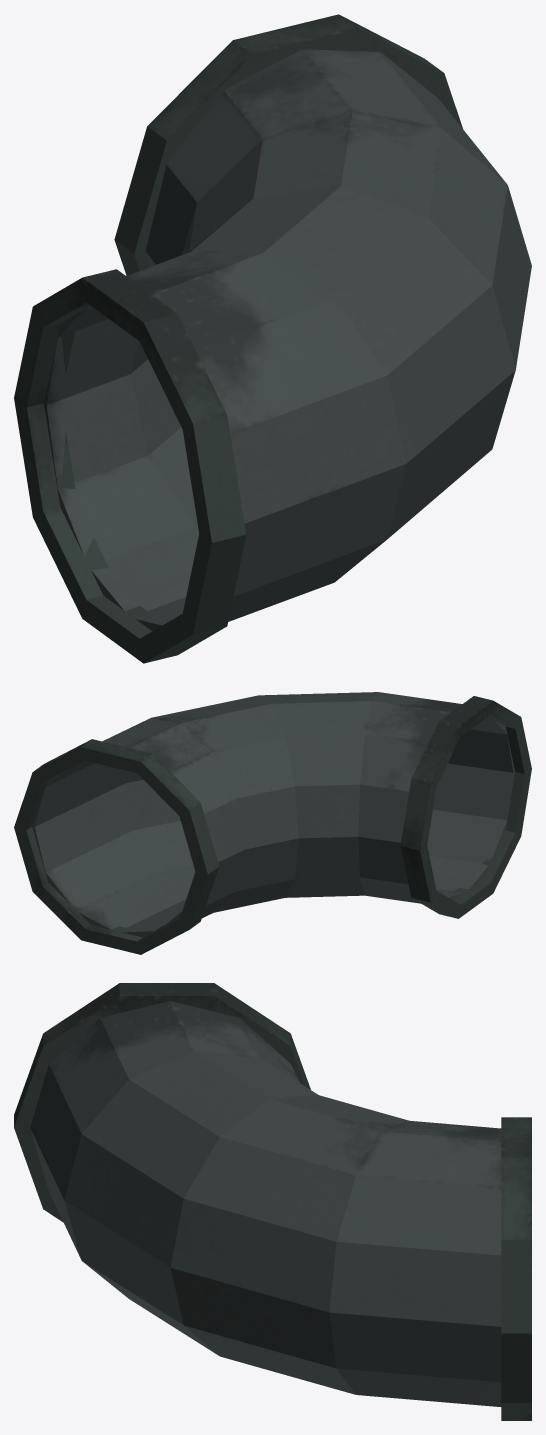
The model's file is duct_elbow_90.glb.
The picture shows the model from 3 angles, top to bottom: view 1: azimuth 30°, elevation 25°; view 2: azimuth 150°, elevation 25°; view 3: azimuth 270°, elevation 25°; orthographic projection. The views are drawn at different scales.
Parts seen in each view (by area): view 1: duct_elbow_90; view 2: duct_elbow_90; view 3: duct_elbow_90.
Boxes of the visible parts, bbox=[...] form: duct_elbow_90: bbox=[14, 14, 531, 663]; duct_elbow_90: bbox=[14, 692, 531, 954]; duct_elbow_90: bbox=[14, 983, 531, 1420].
Bounding box in the file's own units: 1.18 × 0.6657 × 1.19.
Materials: 1 (1 with a texture image).
